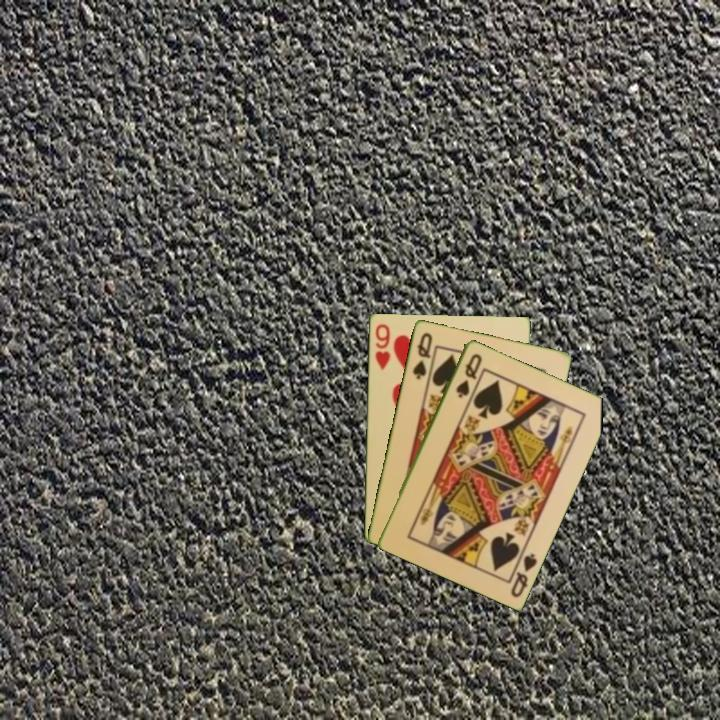9h: (371, 320, 392, 372)
Qs: (505, 545, 540, 600), (452, 350, 485, 401), (409, 329, 435, 382)
